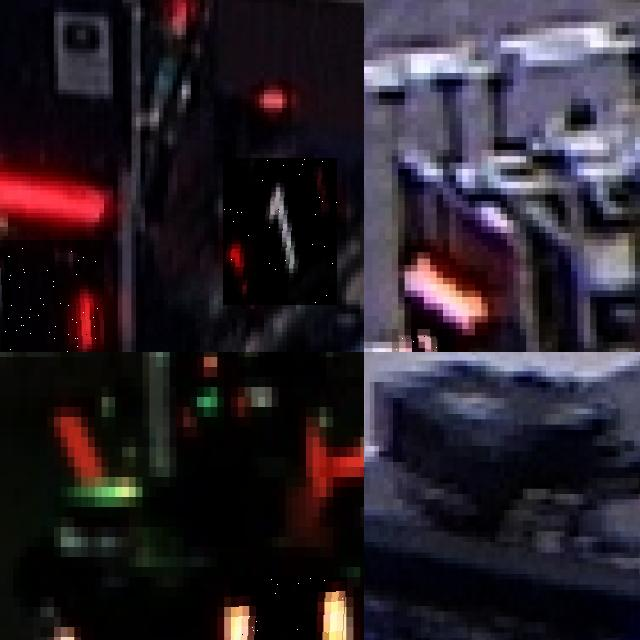R1: (223, 158, 337, 305), (0, 240, 103, 352)
R2: (392, 328, 456, 352)
Rs: (231, 577, 346, 640)
